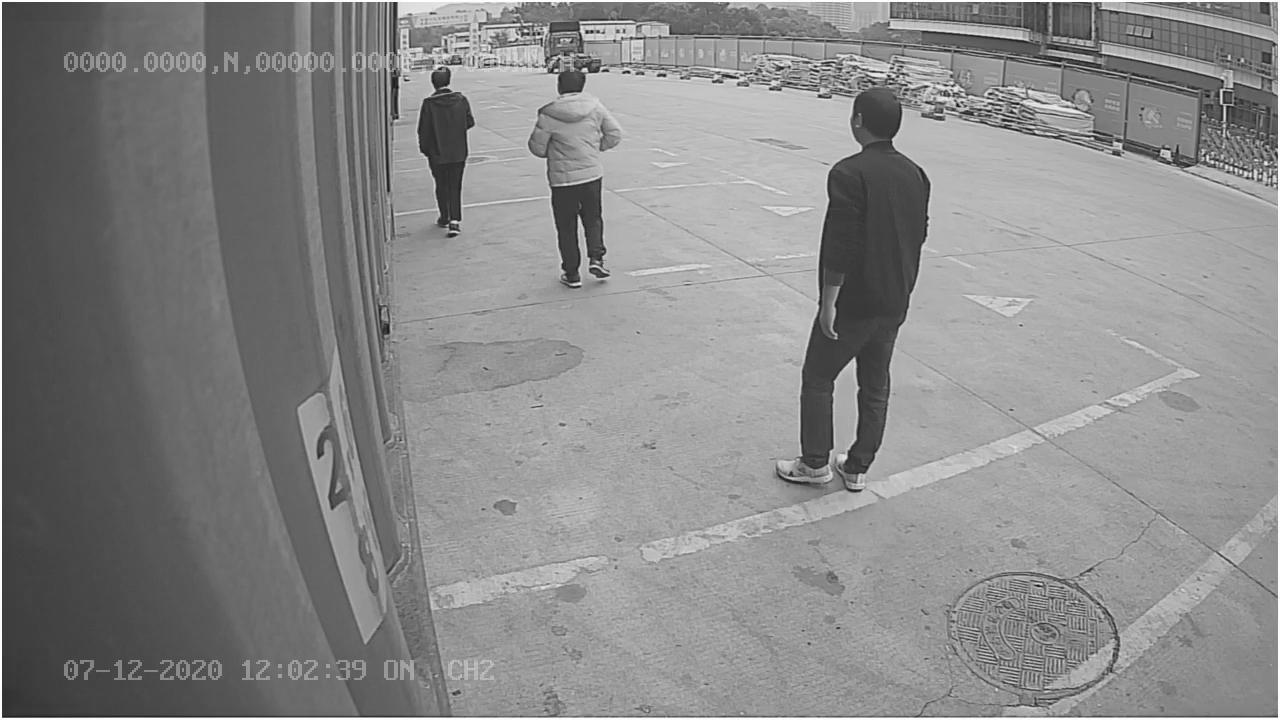person: (770, 83, 936, 495), (528, 63, 625, 290)
